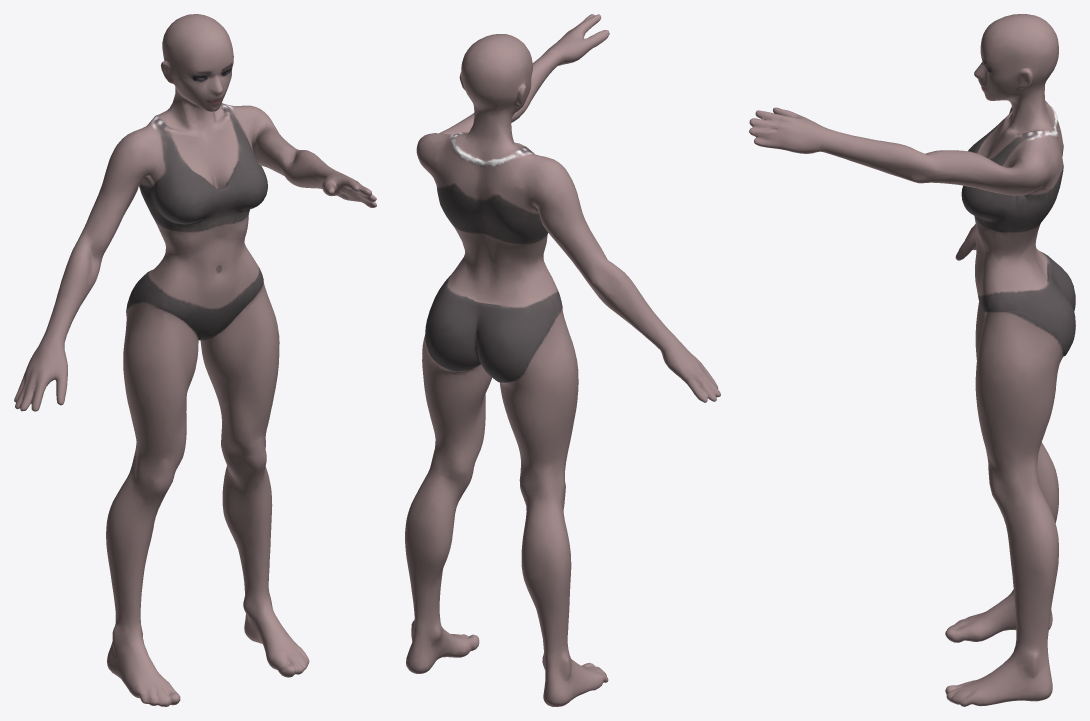
Rendered from 04-UpperArmR-90-child0-twist0-baseline.glb.
The picture shows the model from 3 angles, left to right: view 1: azimuth 30°, elevation 25°; view 2: azimuth 150°, elevation 25°; view 3: azimuth 270°, elevation 25°; orthographic projection.
Visible parts, largest first — view 1: baseline; view 2: baseline; view 3: baseline.
Boxes of the visible parts, <box> form: baseline: <box>14,14,376,706</box>; baseline: <box>405,14,720,706</box>; baseline: <box>749,14,1075,706</box>.
Bounding box in the file's own units: 0.4621 × 1 × 0.455.
1 material, 1 textured.
